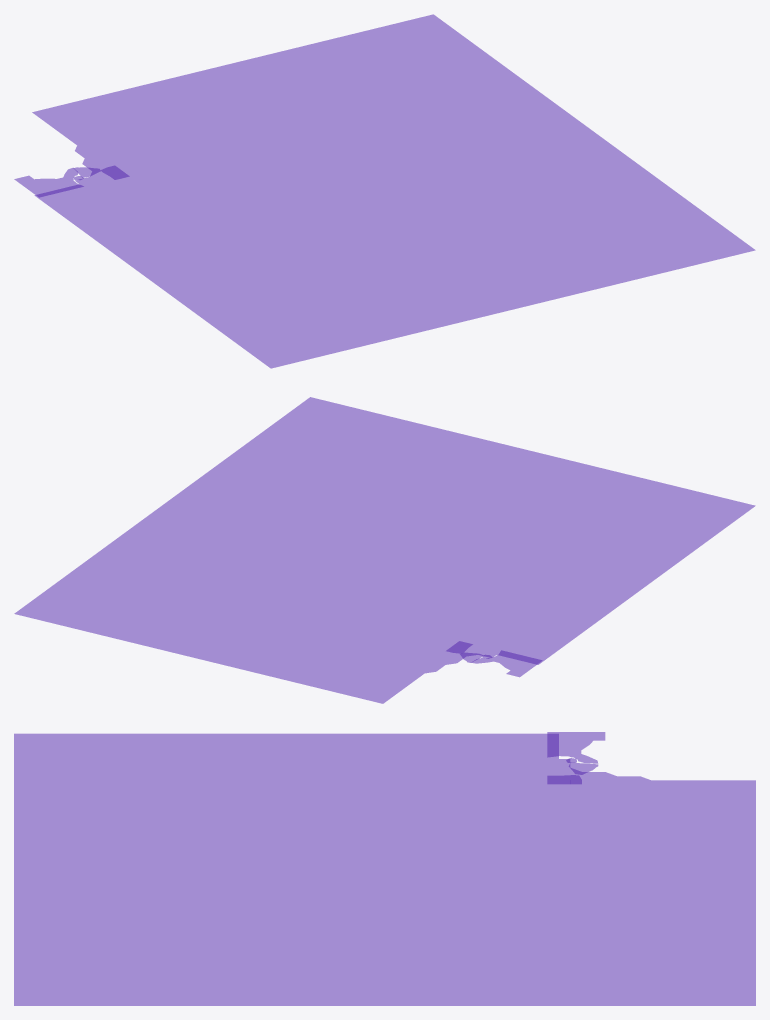
File: flotte_tryker.max.fbx
3 renders of one model, top to bottom at view 1: azimuth 30°, elevation 25°; view 2: azimuth 150°, elevation 25°; view 3: azimuth 270°, elevation 25°, orthographic. The views are drawn at different scales.
Parts seen in each view (by area): view 1: Rectangle01; view 2: Rectangle01; view 3: Rectangle01.
Boxes of the visible parts, x1,y1,x2,y2 form: Rectangle01: (14, 14, 755, 368); Rectangle01: (14, 397, 755, 703); Rectangle01: (14, 732, 755, 1005).
Bounding box in the file's own units: 10027 × 27 × 11546.
